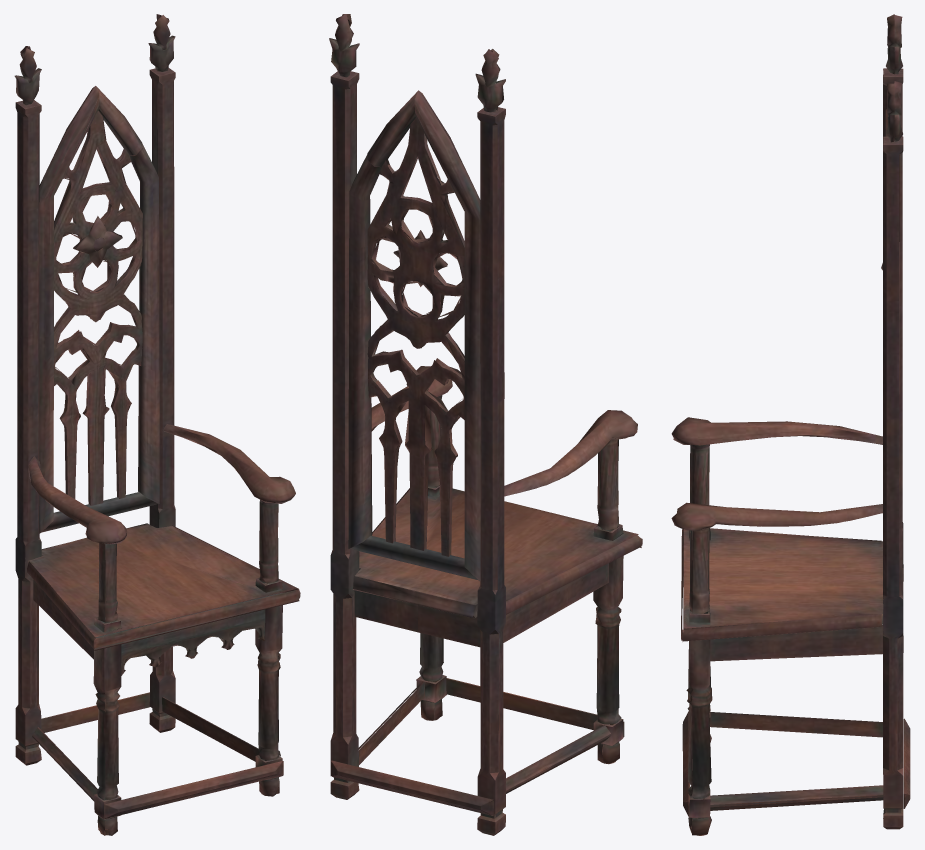
Rendered from WoodenChair_01.glb.
3 views of the same model, side by side, from view 1: azimuth 30°, elevation 25°; view 2: azimuth 150°, elevation 25°; view 3: azimuth 270°, elevation 25° (orthographic). The views are drawn at different scales.
Parts seen in each view (by area): view 1: WoodenChair_01; view 2: WoodenChair_01; view 3: WoodenChair_01.
Part boxes in pixels (<box>): WoodenChair_01: <box>14,14,300,835</box>; WoodenChair_01: <box>329,14,642,835</box>; WoodenChair_01: <box>671,14,910,835</box>.
Bounding box in the file's own units: 0.6886 × 2.27 × 0.6612.
1 material, 1 textured.
